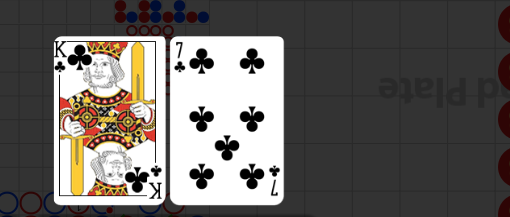7C: (267, 163, 281, 198)
KC: (146, 160, 164, 201)
